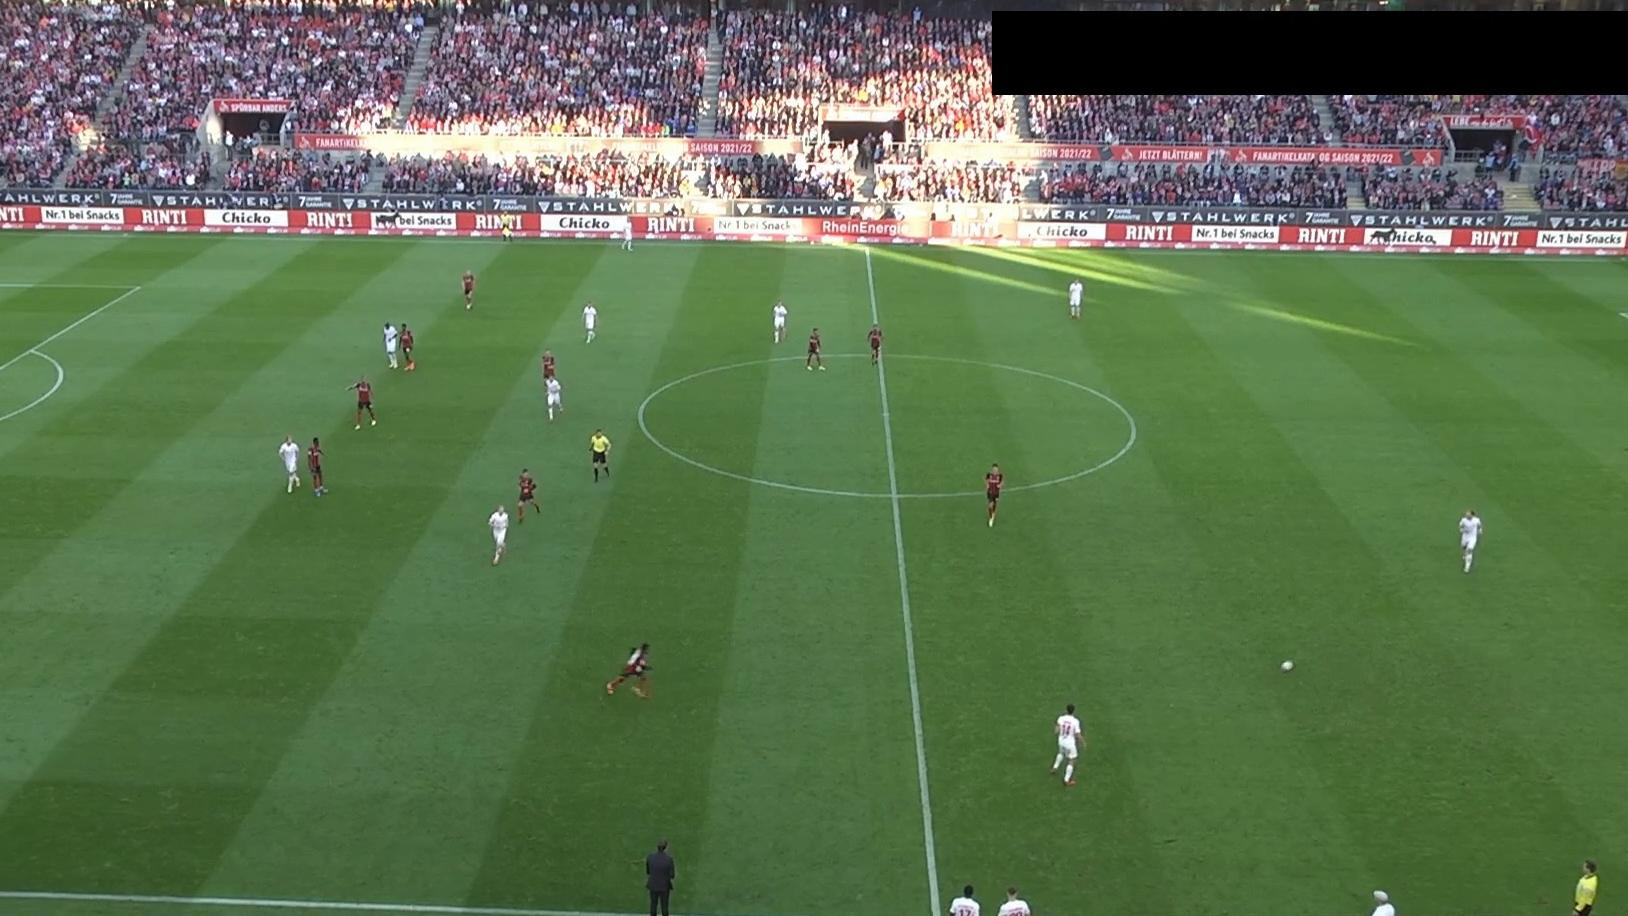ball: (1280, 660, 1295, 673)
